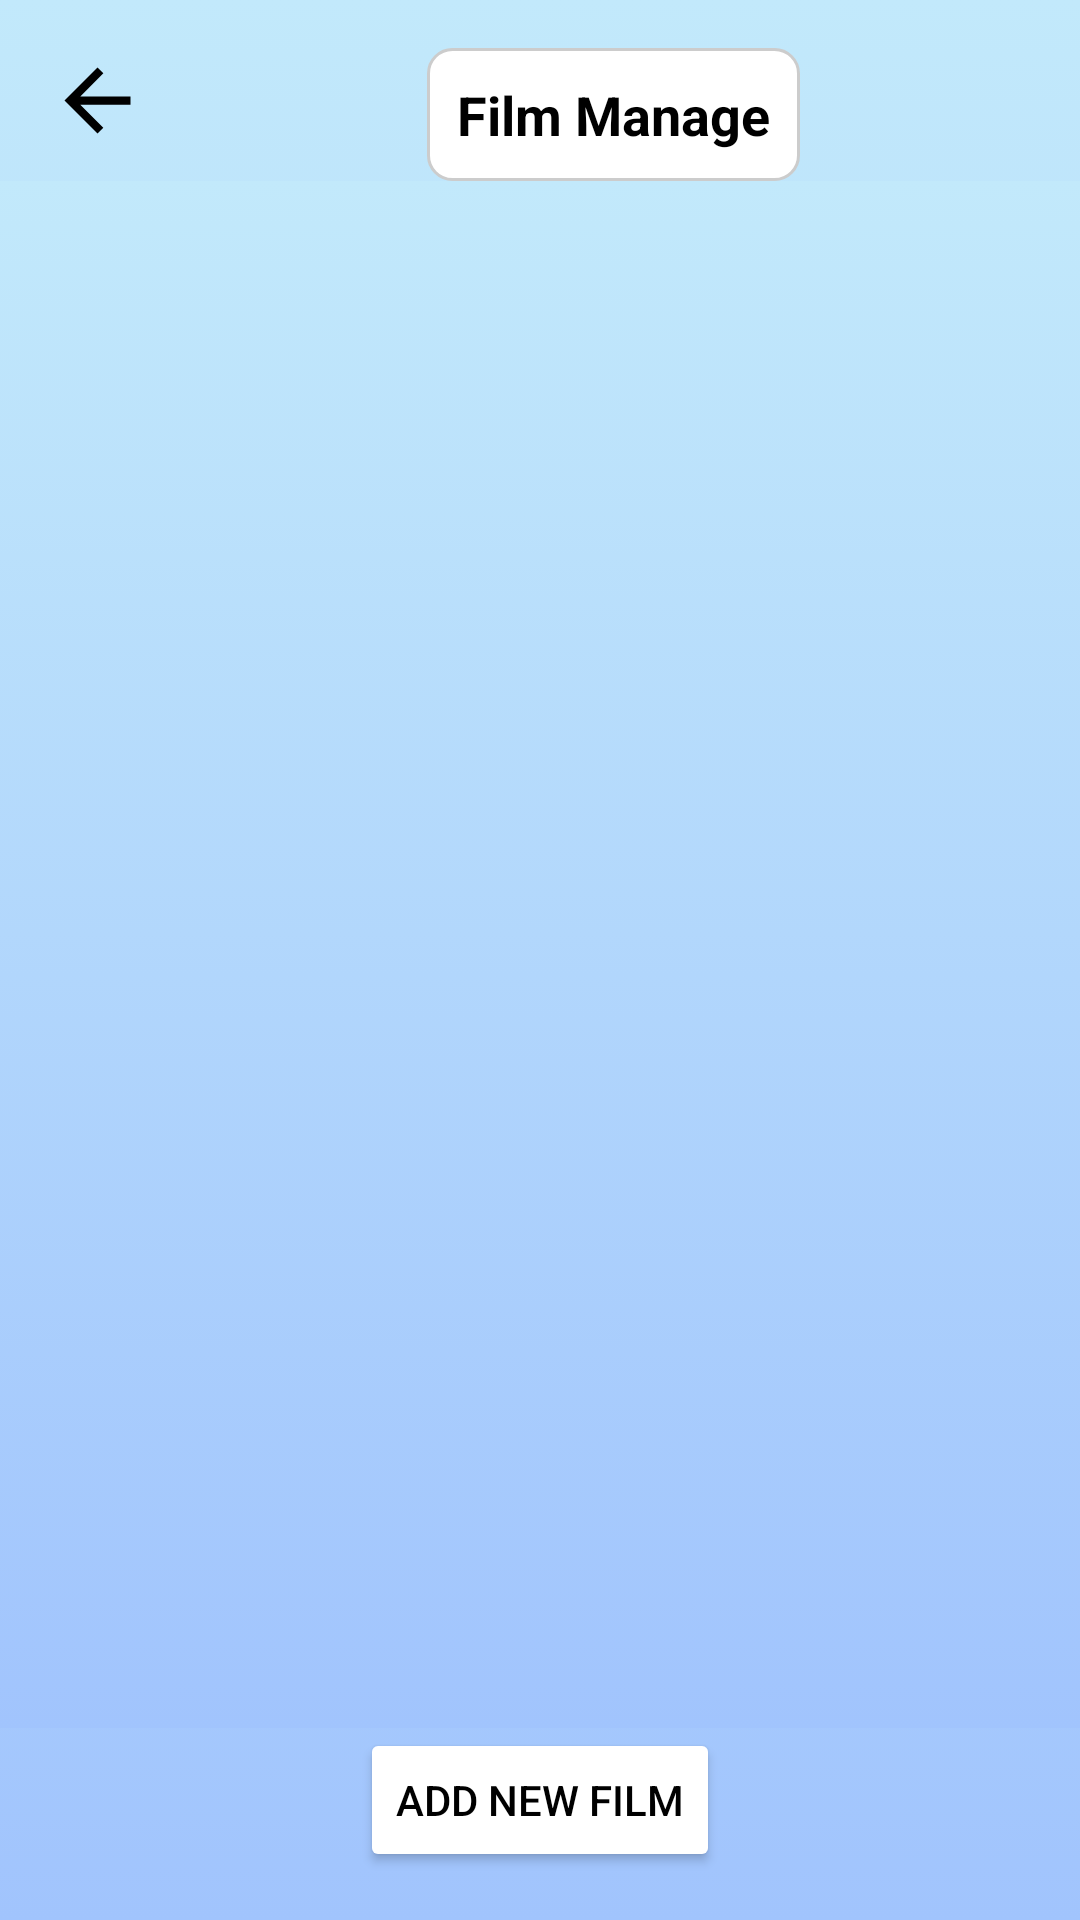

Screen size 1080 x 1920. Icon name, then its box in pixels as {"left": x1, "top": y1, "right": x2, "bottom": y2}:
back arrow: {"left": 64, "top": 67, "right": 131, "bottom": 134}
